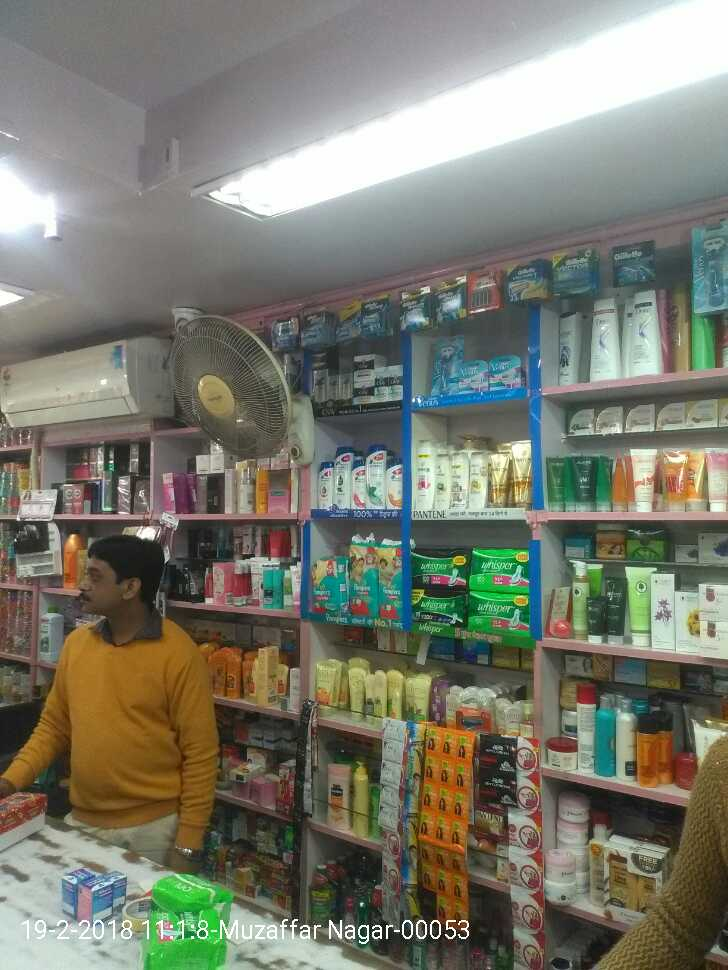gillete: (554, 249, 599, 296), (615, 238, 657, 283), (507, 256, 548, 300), (360, 291, 392, 337), (439, 274, 466, 323), (300, 310, 331, 352), (466, 274, 503, 309), (400, 293, 433, 326), (336, 305, 358, 337), (273, 321, 295, 351), (273, 570, 284, 609), (264, 569, 273, 609)
venus: (694, 226, 728, 311), (432, 335, 459, 394), (487, 354, 523, 390), (459, 360, 487, 390)
